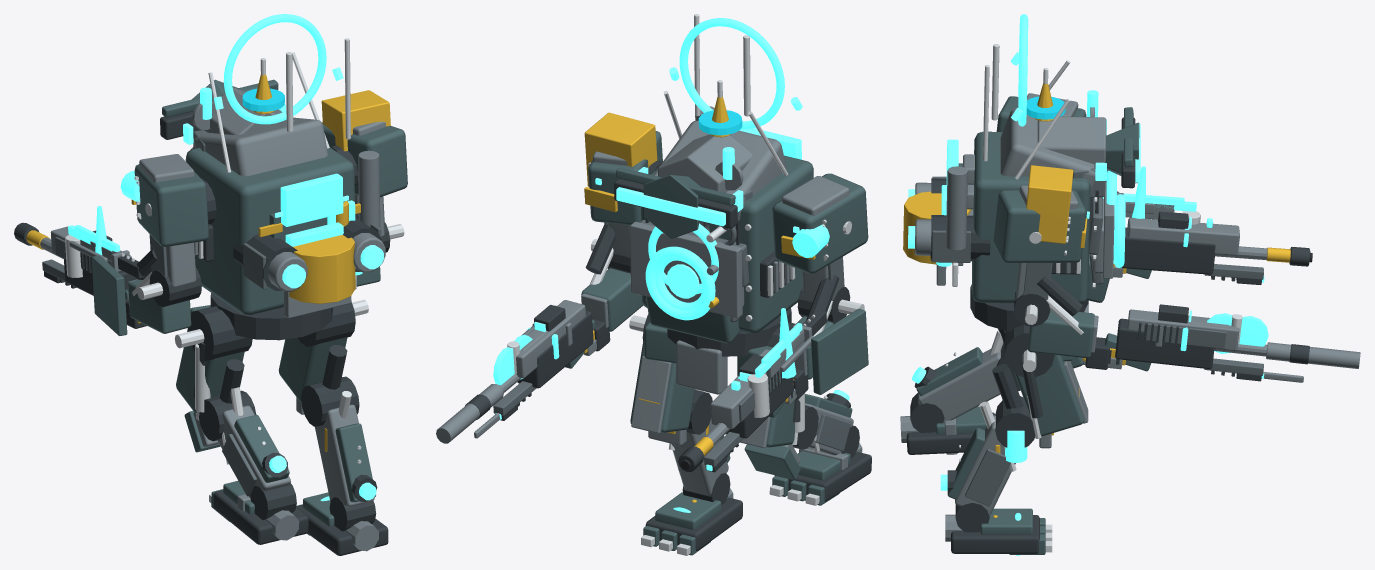
File: strider_lx.glb
3 views of the same model, side by side, from view 1: azimuth 30°, elevation 25°; view 2: azimuth 150°, elevation 25°; view 3: azimuth 270°, elevation 25° (orthographic). The views are drawn at different scales.
Visible parts, largest first — view 1: Torso_Core, Torso_Cowling, Pauldron_Outer_L, ATT_att_ammodrum_mesh, Pauldron_Outer_R, Waist_Ring, ATT_att_halo_mesh, UPG_reactive_shield_array_mesh, UPG_shoulder_pod_rack_mesh, Thigh_R, Shin_R, ATT_att_buckler_mesh (+39 smaller); view 2: Torso_Core, Pauldron_Outer_L, UPG_hull_plating_mesh, ATT_att_buckler_mesh, UPG_shoulder_pod_rack_mesh, Sensor_Cowling, Torso_Cowling, ATT_att_halo_mesh, Sensor_Nose, Groin_Guard, Thigh_Plate_R, ATT_att_reactor_mesh (+46 smaller); view 3: Torso_Core, Pauldron_Outer_R, Pistol_Receiver_L, Torso_Cowling, UPG_shoulder_pod_rack_mesh, Thigh_R, Shin_L, Sensor_Cowling, Pistol_Receiver_R, Forearm_R, Pistol_Slide_L, Foot_Sole_R (+35 smaller).
Boxes of the visible parts, bbox=[...] form: Torso_Core: bbox=[186, 147, 354, 315]; Torso_Cowling: bbox=[194, 117, 328, 176]; Pauldron_Outer_L: bbox=[134, 164, 208, 246]; ATT_att_ammodrum_mesh: bbox=[285, 235, 355, 303]; Pauldron_Outer_R: bbox=[321, 122, 407, 197]; Waist_Ring: bbox=[210, 293, 332, 340]; ATT_att_halo_mesh: bbox=[223, 14, 326, 124]; UPG_reactive_shield_array_mesh: bbox=[280, 173, 343, 226]; UPG_shoulder_pod_rack_mesh: bbox=[321, 90, 390, 151]; Thigh_R: bbox=[278, 337, 347, 402]; Shin_R: bbox=[315, 404, 374, 507]; ATT_att_buckler_mesh: bbox=[91, 255, 127, 335]; Torso_Core: bbox=[641, 155, 813, 333]; Pauldron_Outer_L: bbox=[772, 173, 868, 273]; UPG_hull_plating_mesh: bbox=[630, 221, 742, 318]; ATT_att_buckler_mesh: bbox=[811, 308, 868, 394]; UPG_shoulder_pod_rack_mesh: bbox=[584, 112, 657, 186]; Sensor_Cowling: bbox=[658, 134, 752, 225]; Torso_Cowling: bbox=[653, 120, 786, 218]; ATT_att_halo_mesh: bbox=[679, 18, 784, 129]; Sensor_Nose: bbox=[643, 175, 700, 238]; Groin_Guard: bbox=[676, 340, 727, 394]; Thigh_Plate_R: bbox=[631, 356, 671, 433]; ATT_att_reactor_mesh: bbox=[645, 246, 715, 320]; Torso_Core: bbox=[972, 131, 1090, 303]; Pauldron_Outer_R: bbox=[993, 190, 1086, 262]; Pistol_Receiver_L: bbox=[1120, 227, 1215, 274]; Torso_Cowling: bbox=[1000, 108, 1095, 190]; UPG_shoulder_pod_rack_mesh: bbox=[1026, 165, 1073, 243]; Thigh_R: bbox=[1015, 355, 1083, 436]; Shin_L: bbox=[918, 349, 1000, 422]; Sensor_Cowling: bbox=[1037, 116, 1106, 164]; Pistol_Receiver_R: bbox=[1115, 318, 1214, 369]; Forearm_R: bbox=[1027, 309, 1094, 358]; Pistol_Slide_L: bbox=[1127, 217, 1239, 255]; Foot_Sole_R: bbox=[951, 515, 1039, 553].
Bounding box in the file's own units: 2.68 × 4.95 × 4.04.
